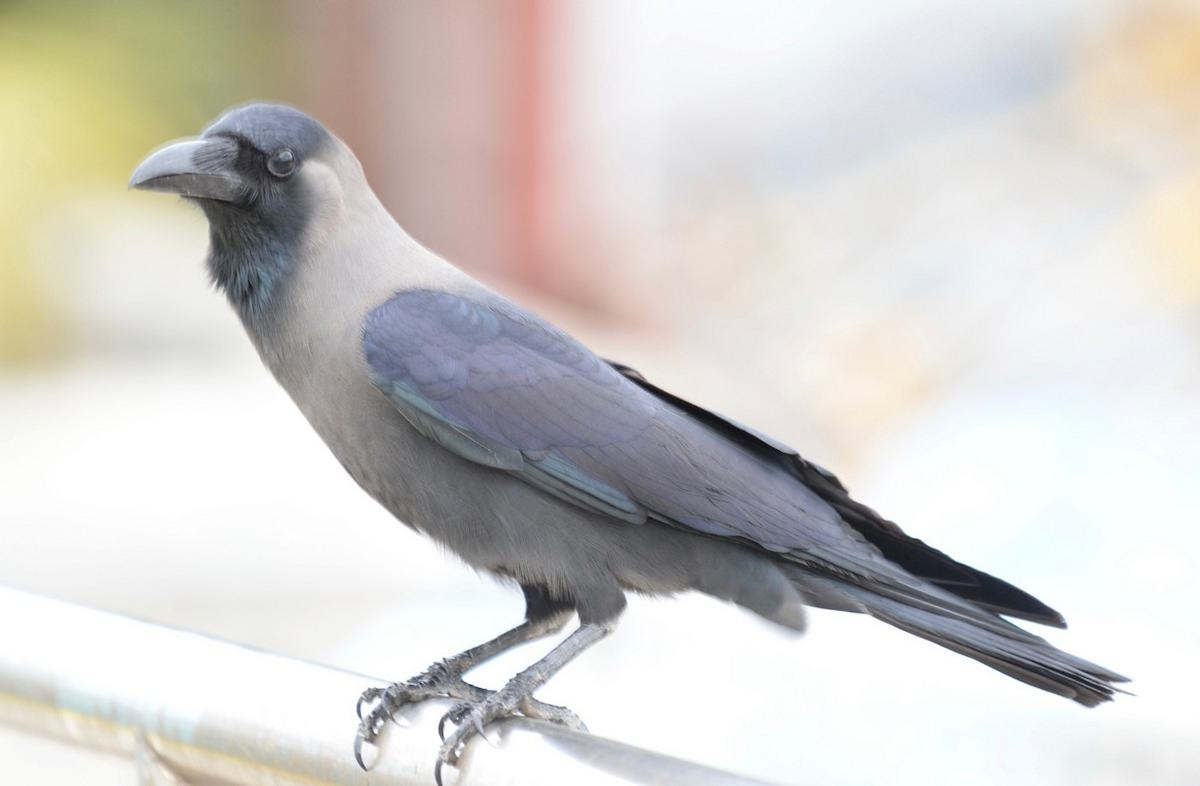crow: (134, 87, 1102, 786)
